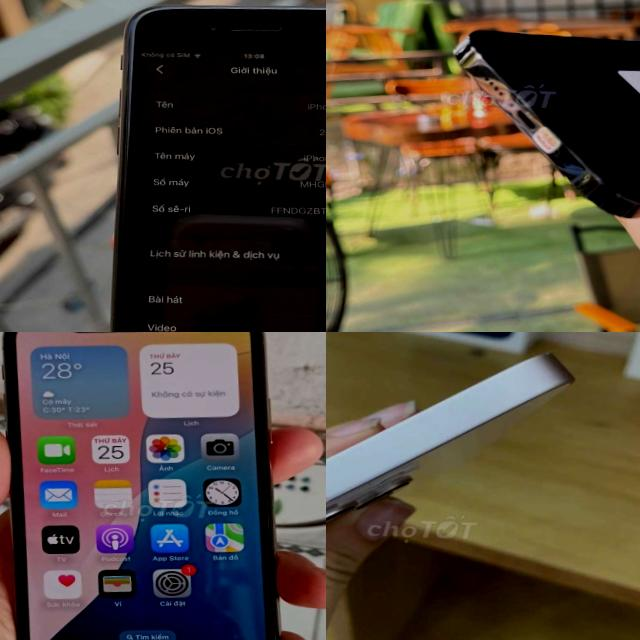scratch: (221, 16, 288, 33)
